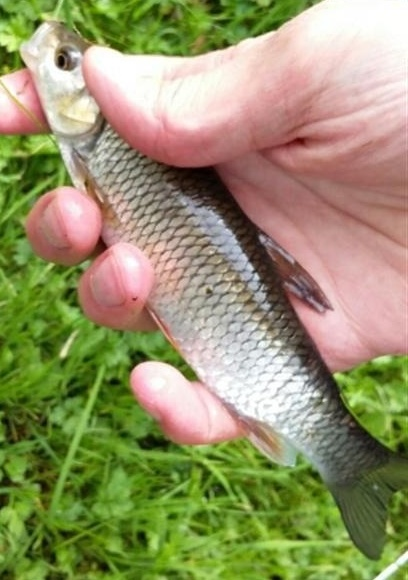Leuciscus cephalus: (20, 20, 408, 560)
